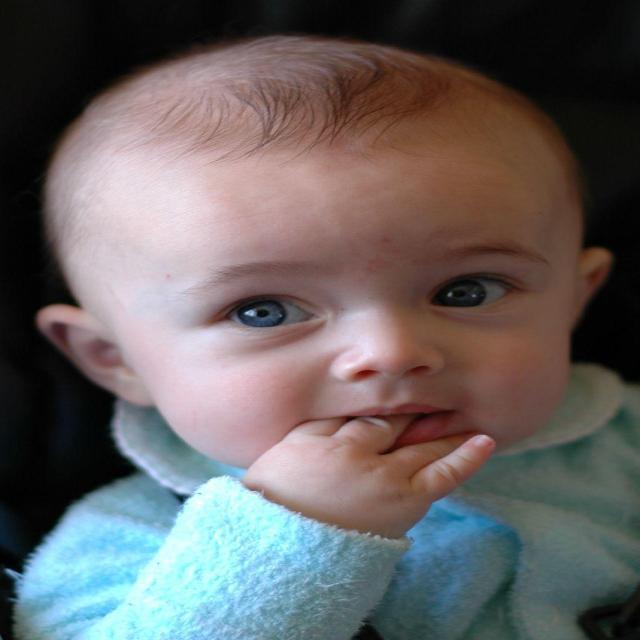no-glass: (213, 270, 534, 328)
